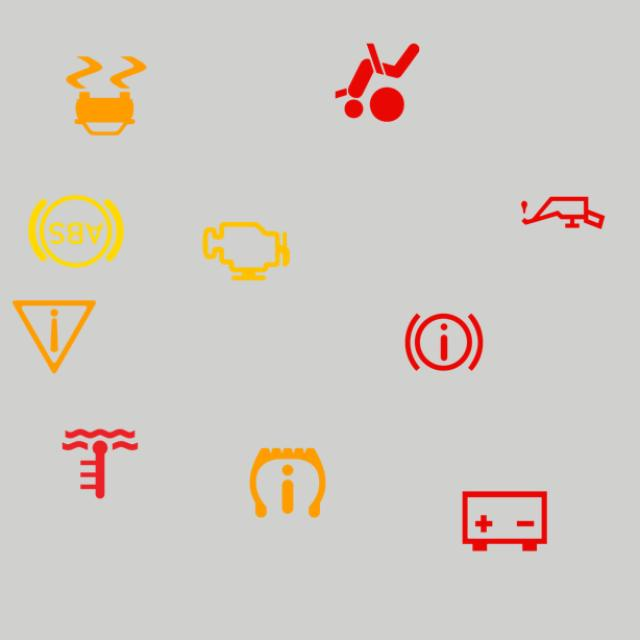Anti Lock Braking System: (24, 180, 128, 284)
Braking System Issue: (392, 290, 496, 394)
Charging System Issue: (452, 469, 556, 573)
Check Engine: (194, 199, 298, 303)
Electronic Stability Problem -ESP-: (54, 44, 158, 148)
Engine Overheating Warning Light: (48, 412, 152, 516)
Low Engine Oil Warning Light: (511, 160, 615, 264)
Low Tire Pressure Warning Light: (236, 430, 340, 534)
Master warning light: (2, 284, 106, 388)
SRS-Airbag: (326, 30, 430, 134)
